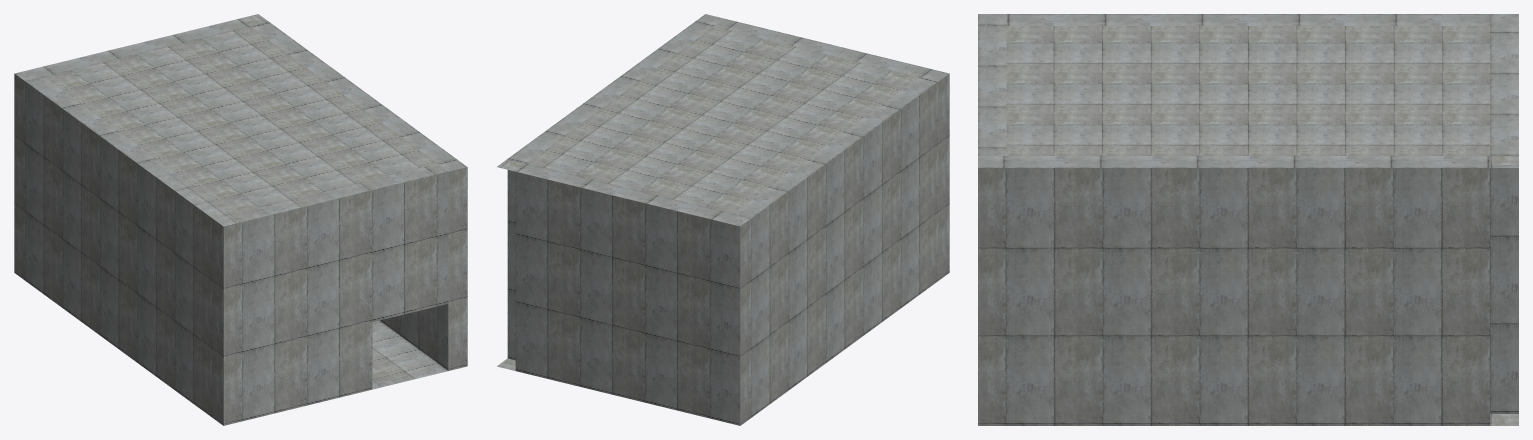
File: Level_6.fbx
3 views of the same model, side by side, from view 1: azimuth 30°, elevation 25°; view 2: azimuth 150°, elevation 25°; view 3: azimuth 270°, elevation 25° (orthographic). The views are drawn at different scales.
Visible parts, largest first — view 1: Ground__1_.005; view 2: Ground__1_.005; view 3: Ground__1_.005.
Part boxes in pixels (box(x1,y1,x2,y2)): Ground__1_.005: box(14, 14, 467, 425); Ground__1_.005: box(497, 14, 949, 425); Ground__1_.005: box(978, 14, 1518, 425).
Bounding box in the file's own units: 12.8 × 19 × 10.
